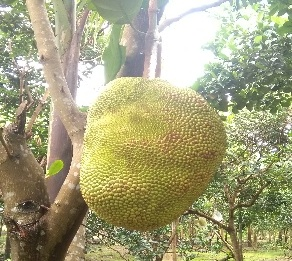Mit: (80, 77, 228, 232)
